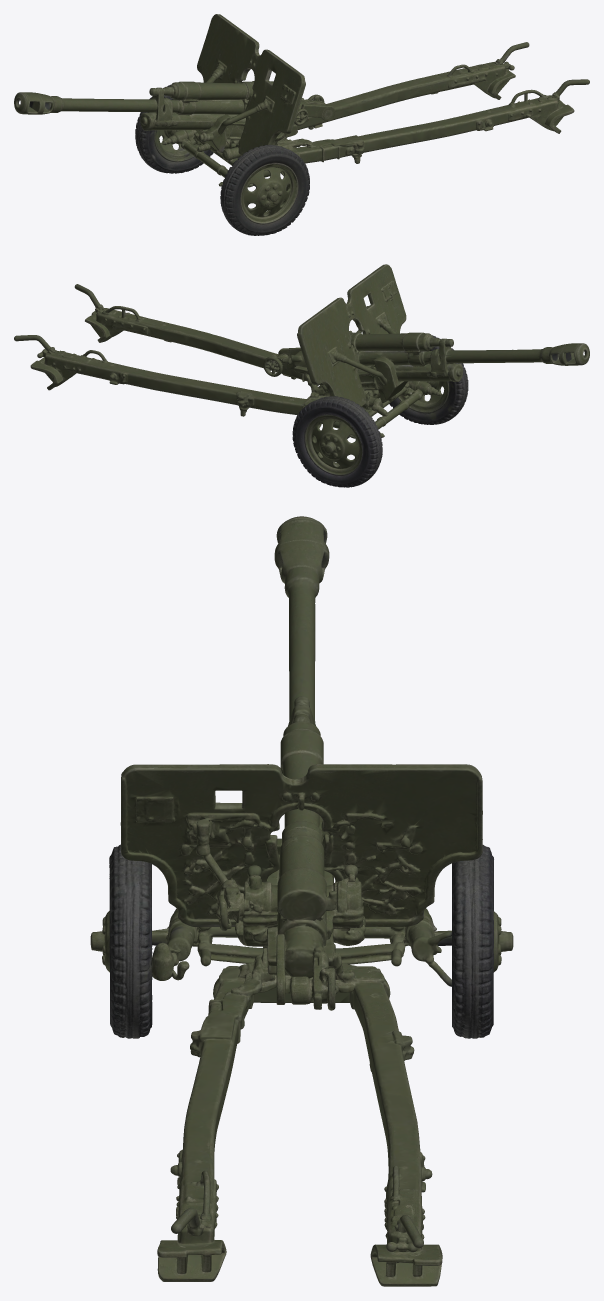
Rendered from zis-3.glb.
3 views of the same model, one above another, from view 1: azimuth 30°, elevation 25°; view 2: azimuth 150°, elevation 25°; view 3: azimuth 270°, elevation 25° (orthographic). The views are drawn at different scales.
Size of the model in its own units: 1.9 by 0.5288 by 0.644.
1 material, 1 textured.
